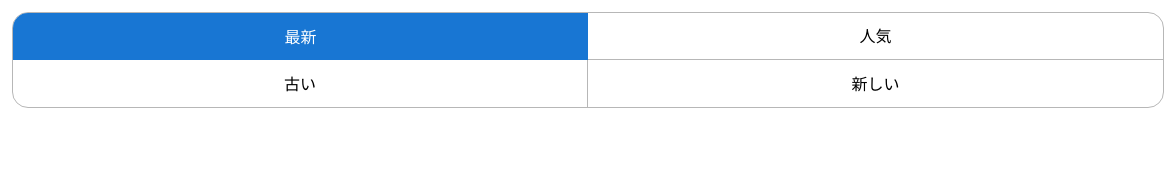
ソートボタンのチェックボックス動作確認 › クリックするとチェックが移動する
Step 1. Click the button with test id "人気-button" → (876, 36), box [588, 13, 1163, 60]
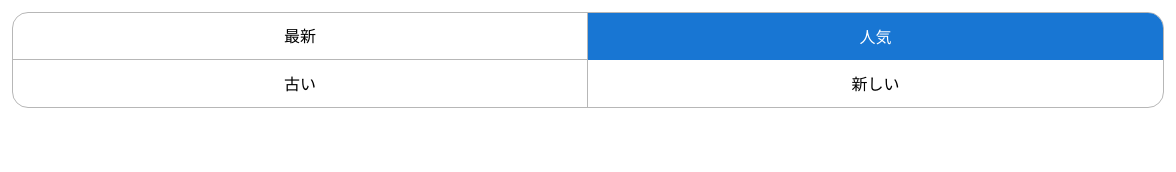
Expected: the radio button with test id "古い-input" is not checked, [13, 60, 588, 107]
Expected: the radio button with test id "人気-input" is checked, [588, 13, 1163, 60]
Expected: the radio button with test id "最新-input" is not checked, [13, 13, 588, 60]
